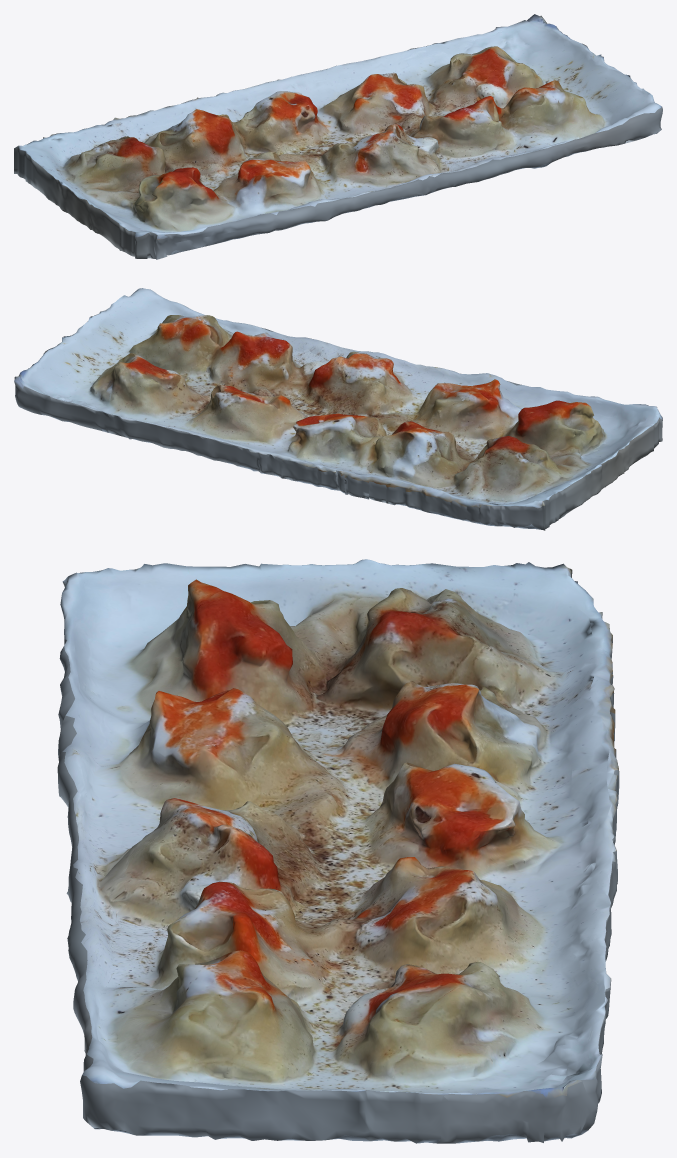
The model's file is manti.glb.
3 renders of one model, top to bottom at view 1: azimuth 30°, elevation 25°; view 2: azimuth 150°, elevation 25°; view 3: azimuth 270°, elevation 25°, orthographic. The views are drawn at different scales.
Visible parts, largest first — view 1: mantiv1; view 2: mantiv1; view 3: mantiv1.
Part boxes in pixels (left/top/right/bottom): mantiv1: left=14, top=14, right=662, bottom=259; mantiv1: left=14, top=288, right=662, bottom=530; mantiv1: left=57, top=559, right=619, bottom=1143.
Bounding box in the file's own units: 0.3054 × 0.0267 × 0.1377.
Materials: 2 (2 with a texture image).
